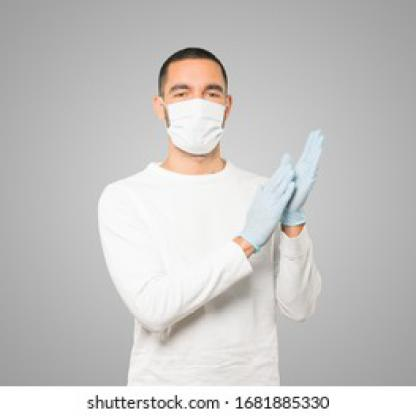with_gloves: (239, 152, 294, 254), (278, 128, 323, 224)
